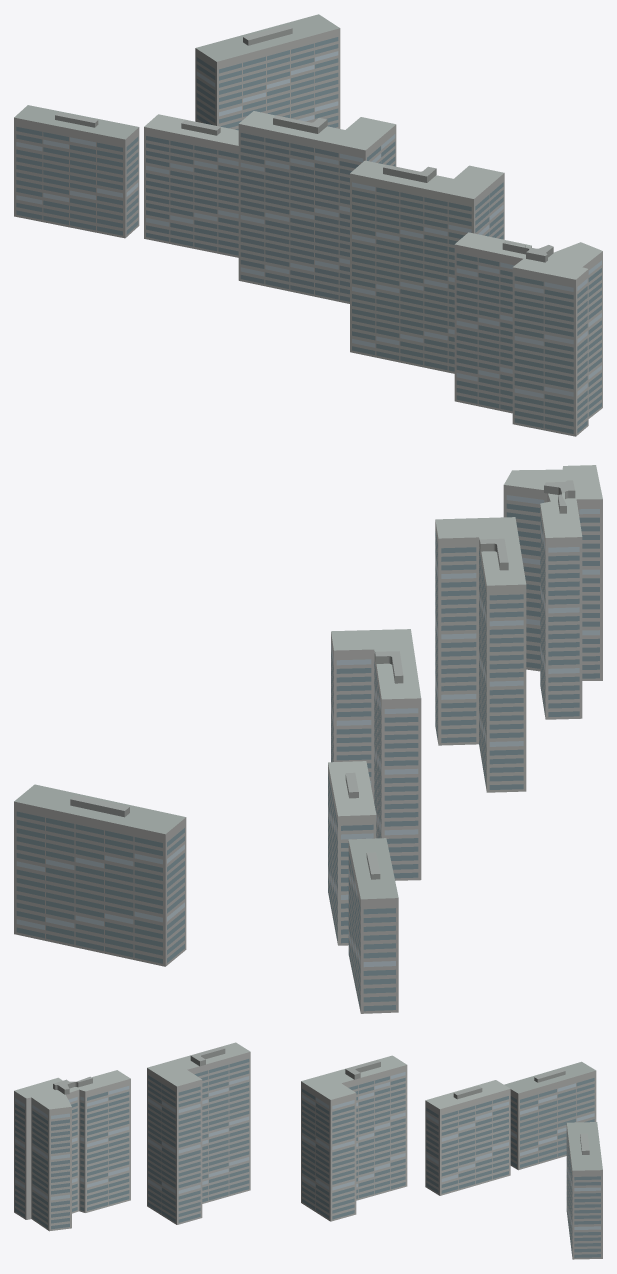
The model's file is apt-a10025753.glb.
3 views of the same model, one above another, from view 1: azimuth 30°, elevation 25°; view 2: azimuth 150°, elevation 25°; view 3: azimuth 270°, elevation 25° (orthographic). The views are drawn at different scales.
Visible parts, largest first — view 1: apt-a10025753; view 2: apt-a10025753; view 3: apt-a10025753.
Part boxes in pixels (bbox=[...]): apt-a10025753: bbox=[14, 14, 602, 436]; apt-a10025753: bbox=[14, 465, 602, 1013]; apt-a10025753: bbox=[14, 1042, 602, 1259].
Bounding box in the file's own units: 123 × 68 × 253.
